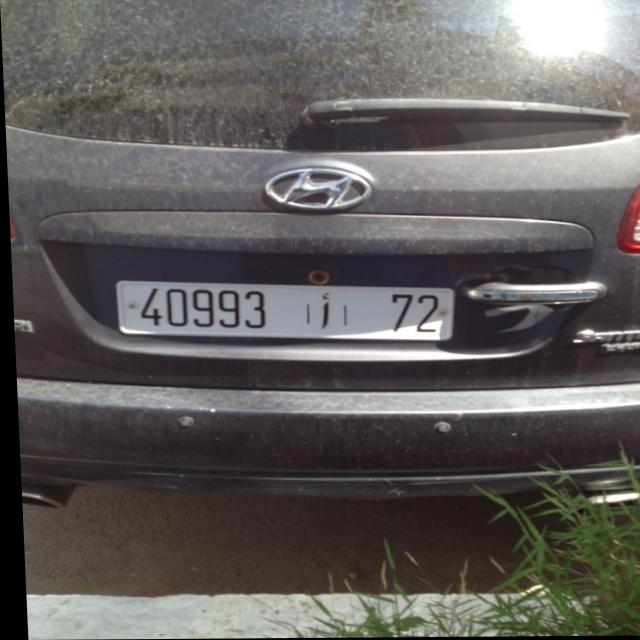License-Plate: (113, 281, 452, 341)
